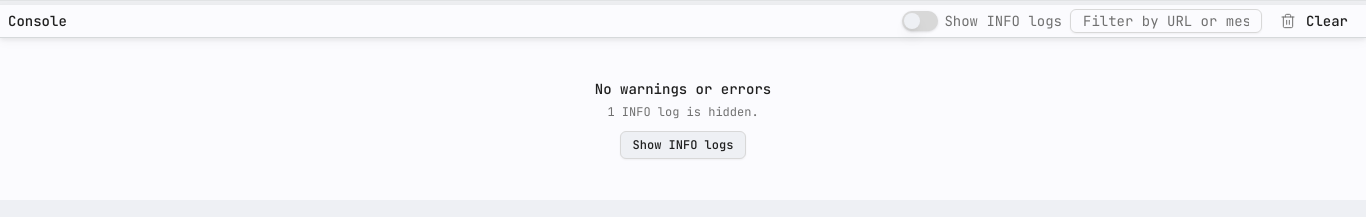
it: ConsolePanel backend logs › includes INFO when the toggle is on
The image size is (1366, 217).
Click the switch named "Show INFO backend logs". click: {"x": 920, "y": 21}
box: [902,11,938,31]
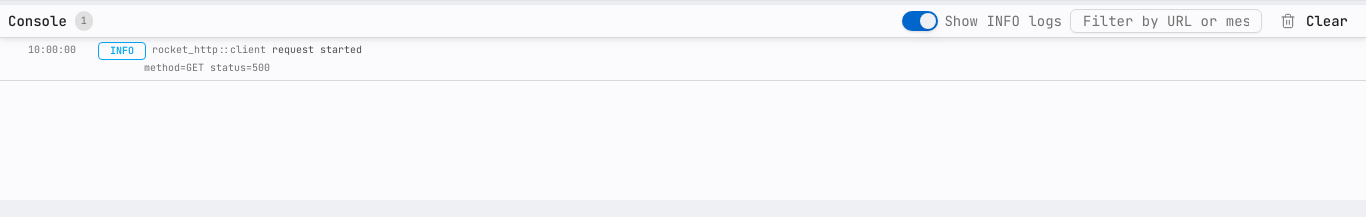
Expected: the text "request started" is shown, [272,43,362,56]
